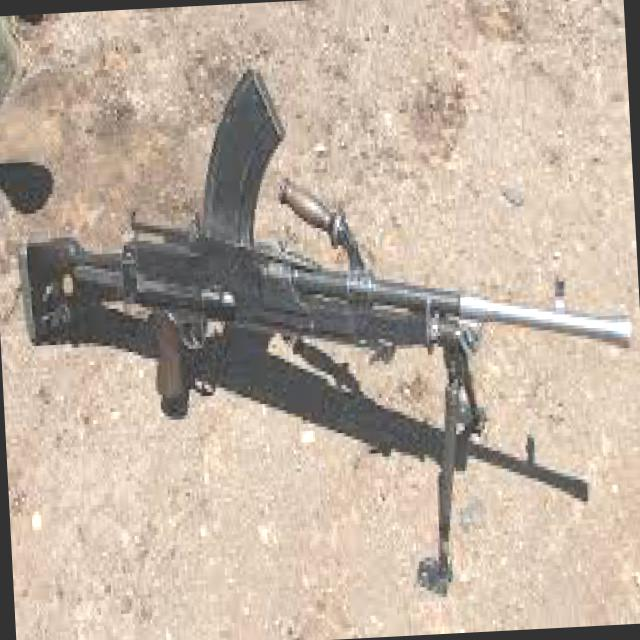long weapon: (6, 172, 634, 440)
